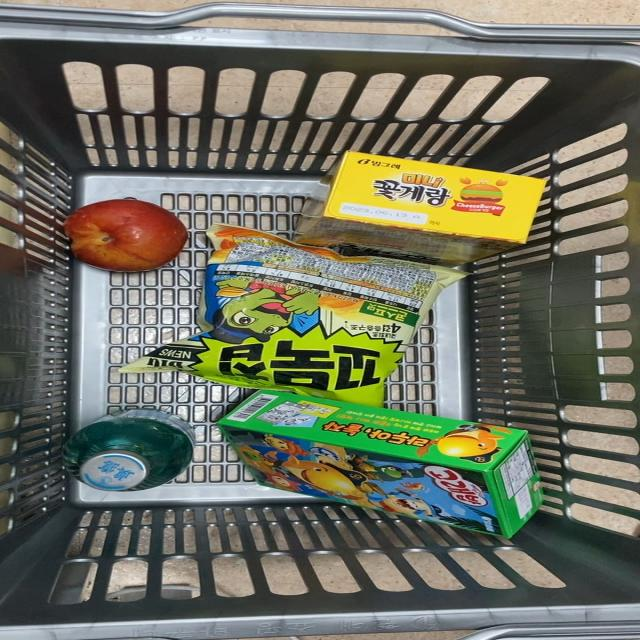ggobukchip: (183, 221, 410, 399)
goraebob: (198, 386, 572, 539)
jinro: (68, 411, 205, 491)
minicrab: (312, 149, 547, 257)
plum: (50, 190, 185, 274)
